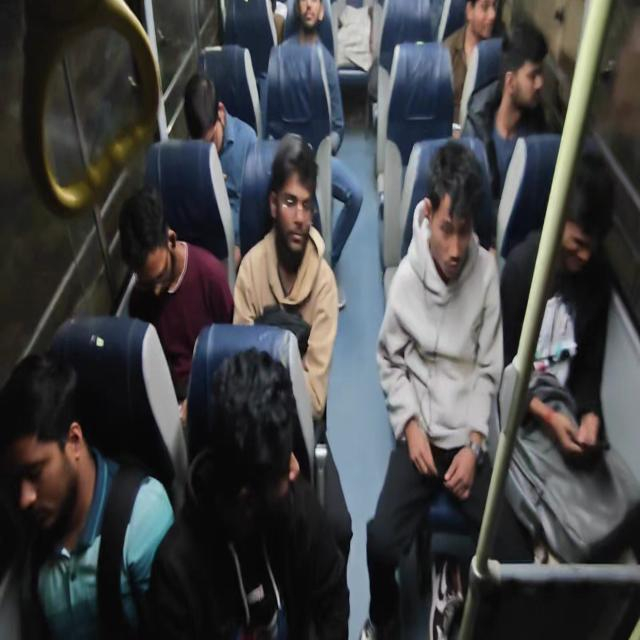person: (192, 336, 310, 536), (2, 327, 100, 553), (264, 136, 333, 277), (417, 148, 487, 285), (117, 183, 181, 301), (552, 151, 611, 275), (179, 83, 237, 168), (501, 21, 550, 111), (466, 0, 506, 43), (293, 0, 328, 40)
